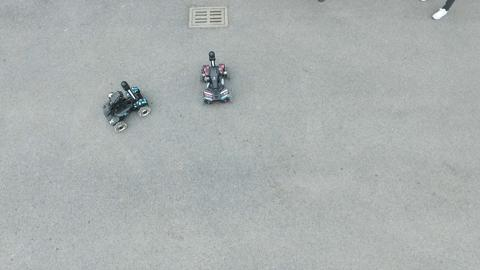chariot: (102, 80, 152, 133), (197, 49, 234, 107)
